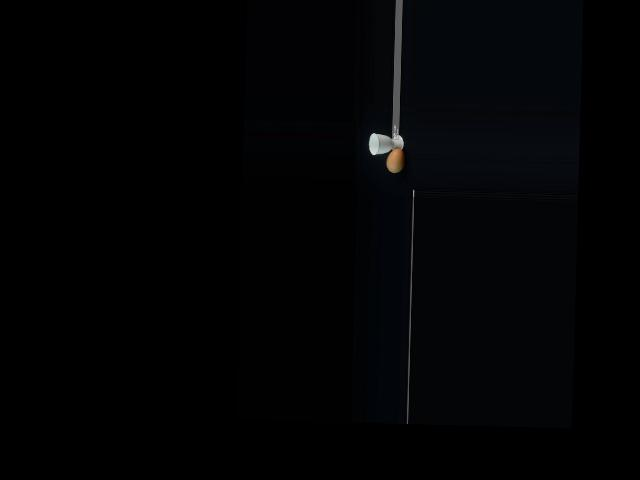egg: (386, 148, 404, 172)
